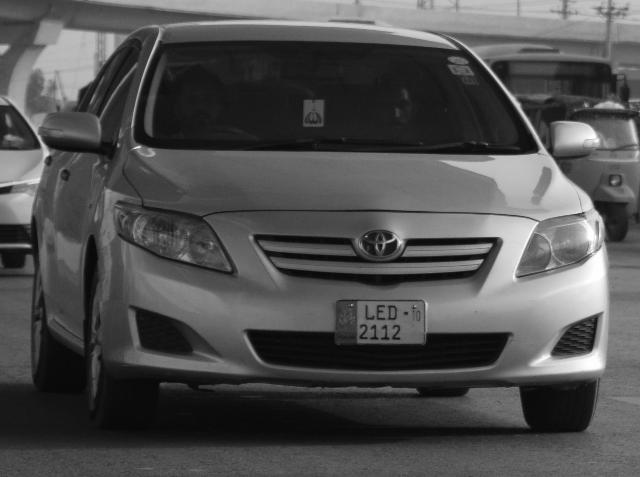Number: (359, 304, 407, 340)
